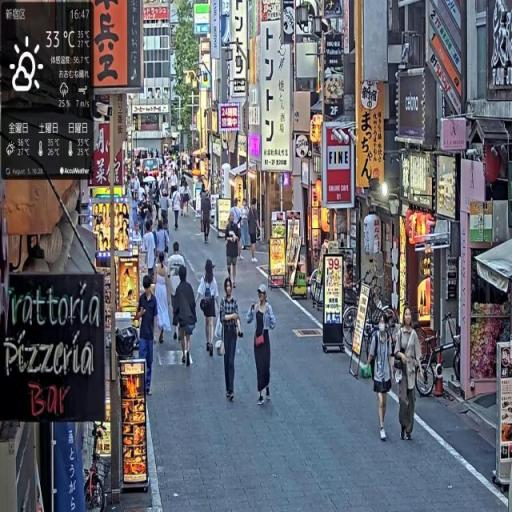person: (394, 307, 423, 446), (367, 311, 397, 445), (247, 283, 278, 409), (219, 274, 244, 406), (135, 276, 159, 400), (173, 267, 199, 369), (198, 258, 221, 357), (153, 256, 174, 347), (167, 243, 186, 341), (225, 212, 242, 289), (142, 220, 159, 291), (247, 197, 262, 266), (157, 219, 171, 274), (201, 186, 213, 245)
